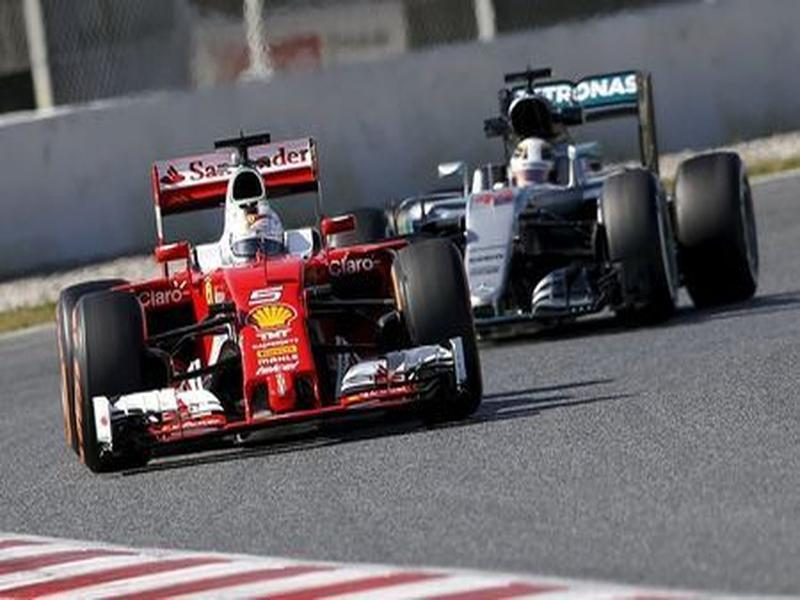f1: (48, 143, 483, 450), (405, 37, 757, 323)
